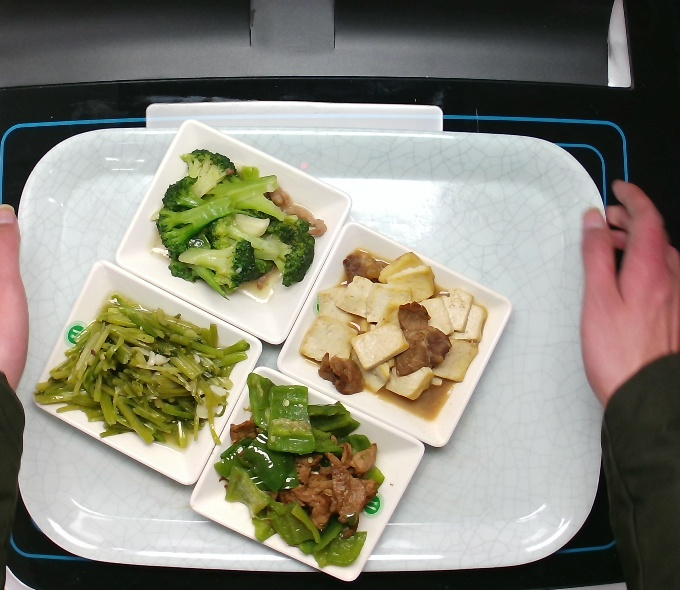wcq-DouFuRouPian: (286, 248, 493, 412)
wcq-QinCai: (31, 291, 256, 467)
wcq-QingJiaoChaoRou: (222, 372, 393, 566)
wcq-XiLanHua: (140, 144, 329, 297)
